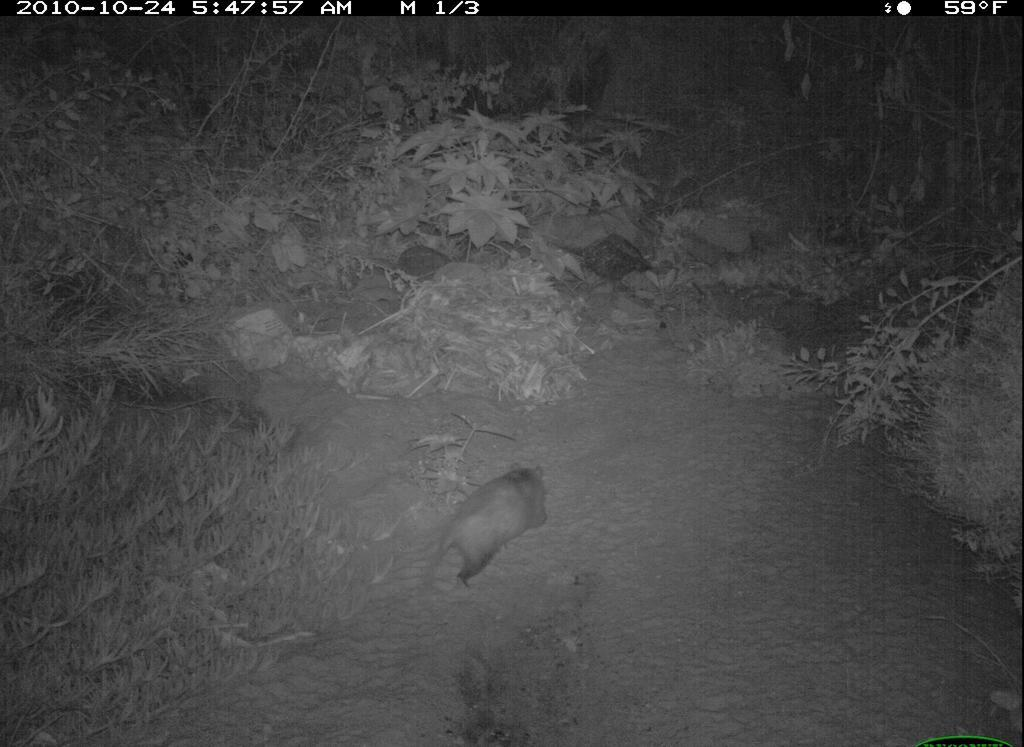opossum: (424, 451, 573, 619)
